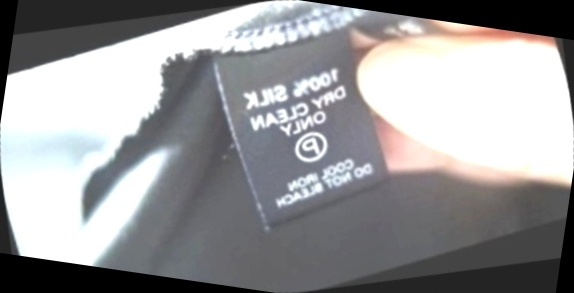dry_clean_any_solvent_except_trichloroethylene: (275, 112, 345, 181)
